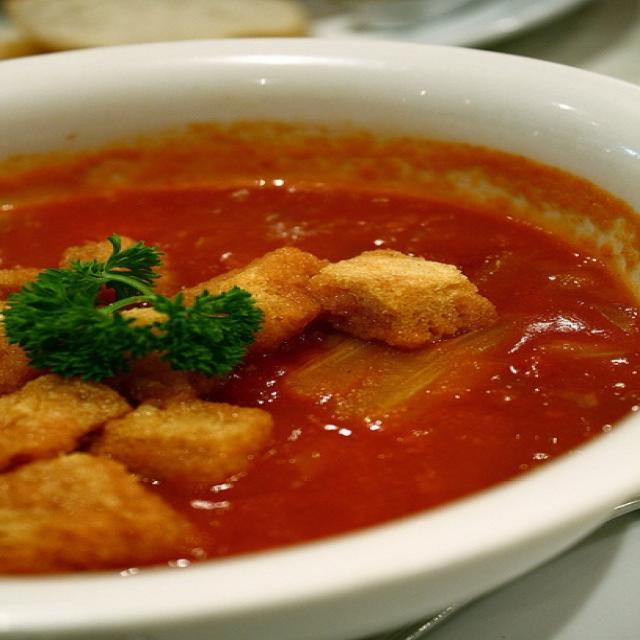汤锅炖物: (8, 7, 629, 618)
